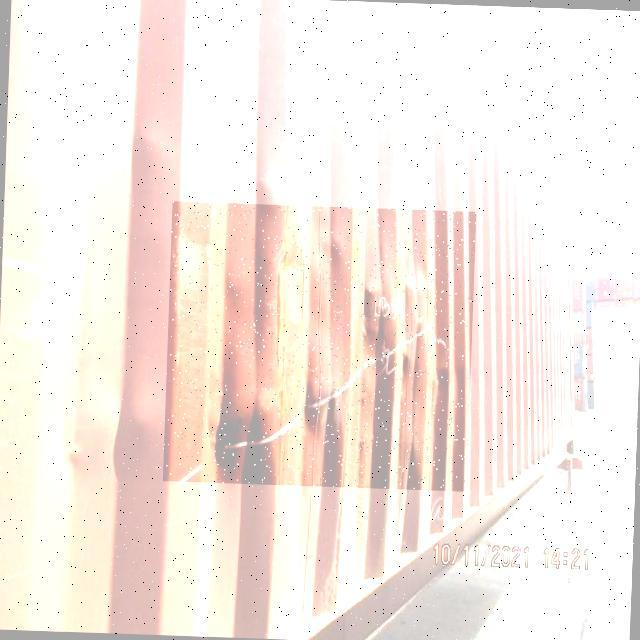Dent: (162, 202, 476, 492)
